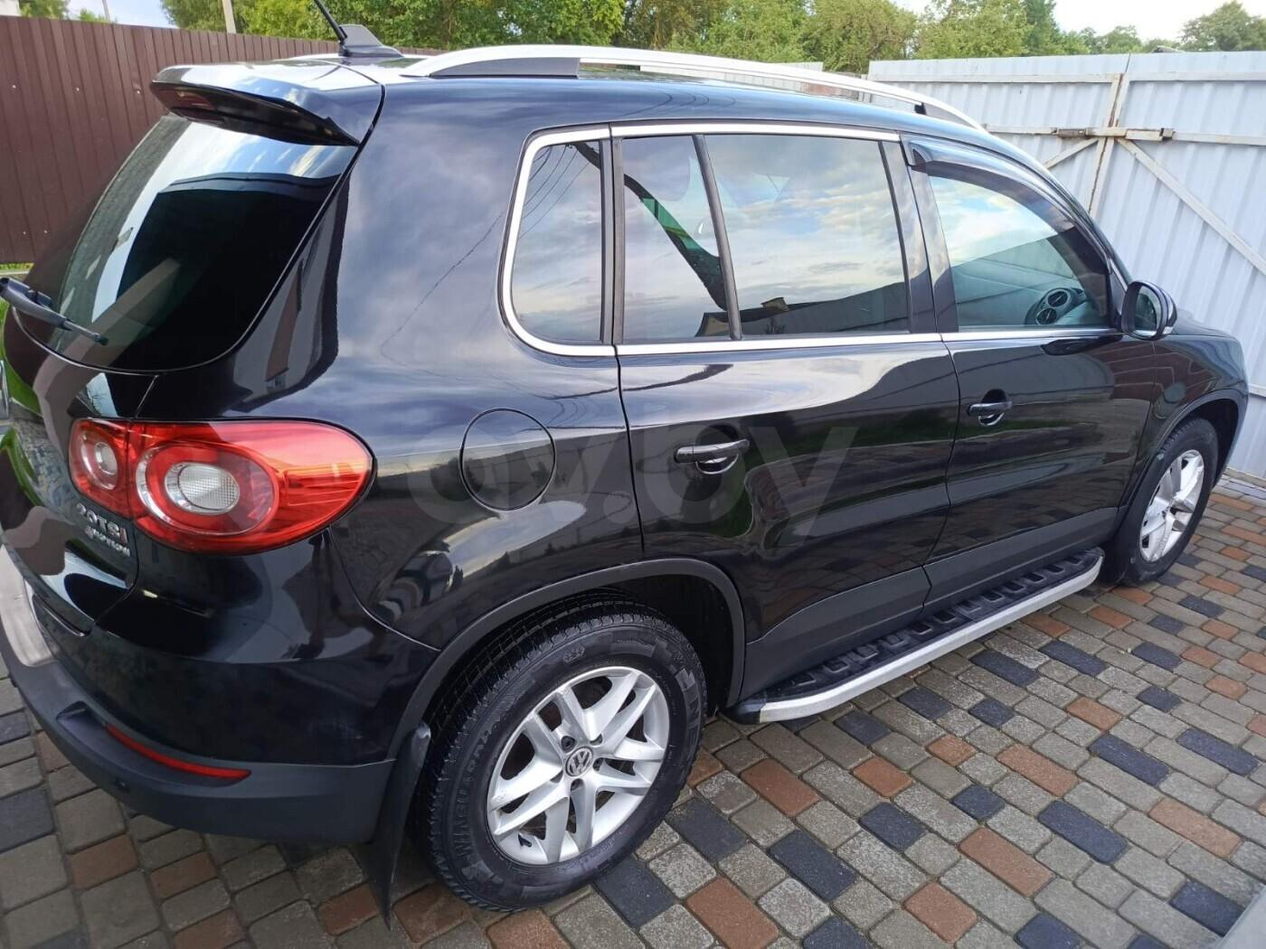Tiguan_2007-2011: (0, 49, 1257, 915)
